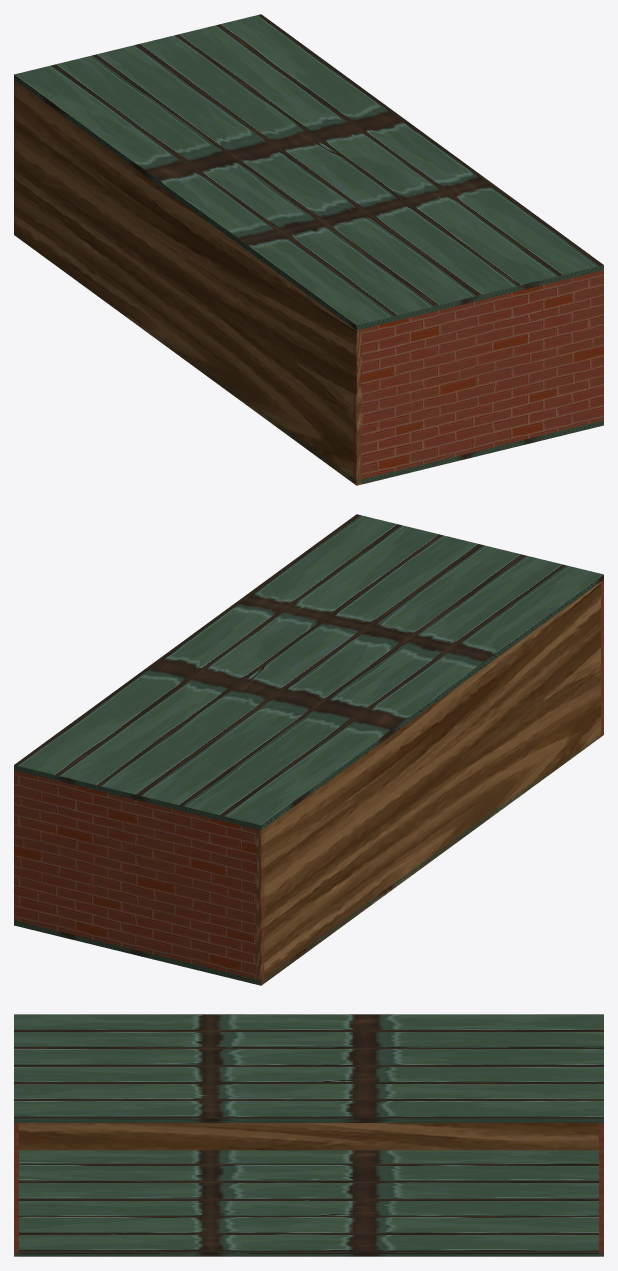
The model's file is XLargeRoomBase.glb.
The picture shows the model from 3 angles, top to bottom: view 1: azimuth 30°, elevation 25°; view 2: azimuth 150°, elevation 25°; view 3: azimuth 270°, elevation 25°; orthographic projection. The views are drawn at different scales.
Visible parts, largest first — view 1: Ceiling.003, Back.003, Left.003, Floor.003; view 2: Ceiling.003, Back.003, Right.003, Floor.003; view 3: Ceiling.003, Floor.003, Back.003, Left.003, Right.003.
Boxes of the visible parts, left/top/right/bottom form: Ceiling.003: left=14, top=14, right=603, bottom=330; Back.003: left=14, top=80, right=361, bottom=485; Left.003: left=353, top=270, right=603, bottom=484; Floor.003: left=17, top=233, right=603, bottom=485; Ceiling.003: left=14, top=514, right=603, bottom=830; Back.003: left=256, top=581, right=603, bottom=985; Right.003: left=14, top=770, right=264, bottom=984; Floor.003: left=14, top=733, right=601, bottom=984; Ceiling.003: left=14, top=1014, right=603, bottom=1122; Floor.003: left=14, top=1150, right=603, bottom=1256; Back.003: left=19, top=1123, right=598, bottom=1150; Left.003: left=14, top=1123, right=18, bottom=1256; Right.003: left=599, top=1123, right=603, bottom=1256.
Bounding box in the file's own units: 5 × 3.1 × 12.
Materials: 3 (3 with a texture image).
